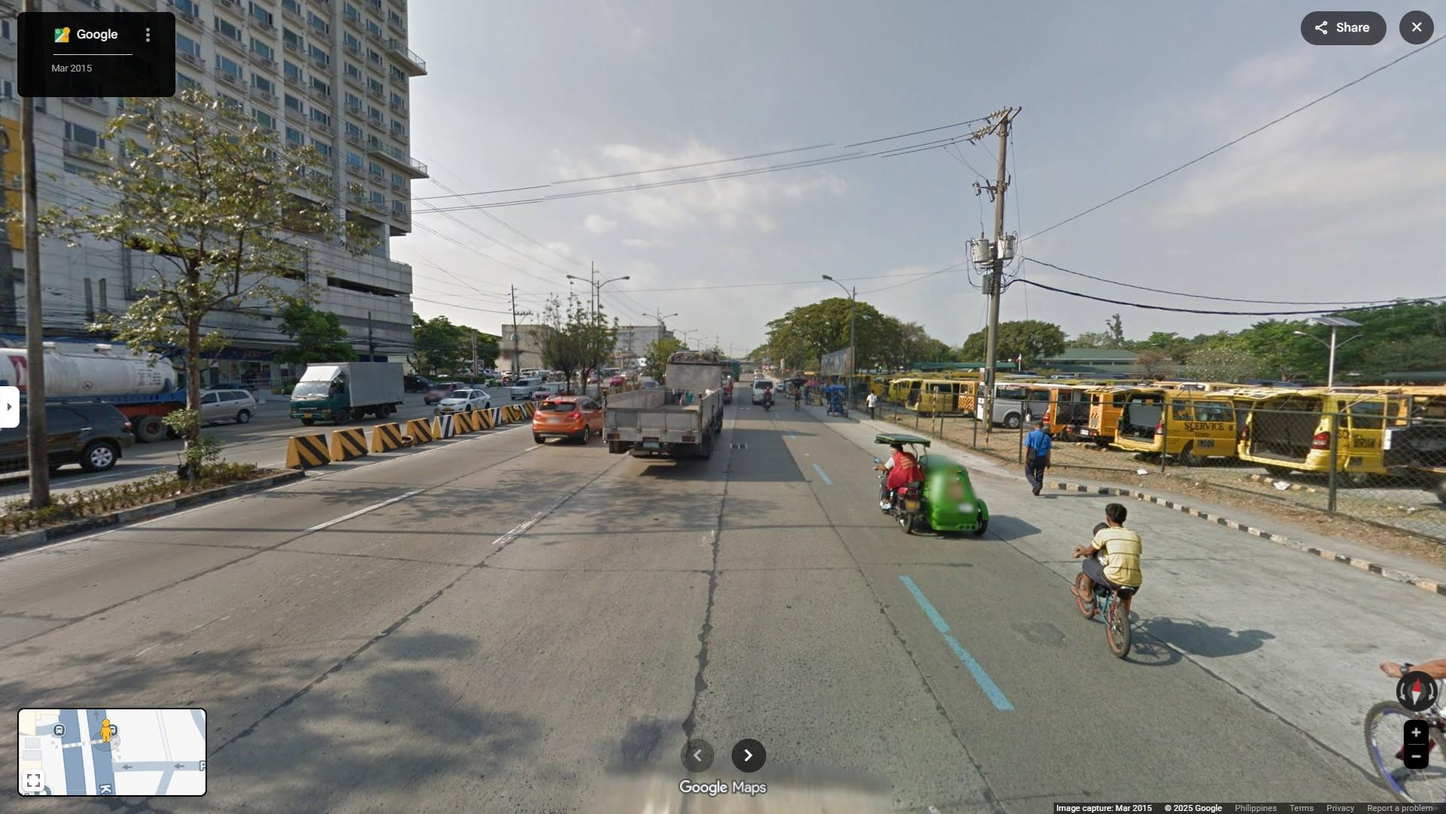cyclist: (1360, 584, 1446, 814), (1071, 503, 1145, 659), (791, 384, 802, 412)
pedestrian: (1021, 419, 1052, 498), (865, 389, 878, 421), (830, 391, 842, 418), (824, 381, 832, 404), (804, 385, 811, 405), (468, 374, 474, 390), (502, 375, 507, 389)
